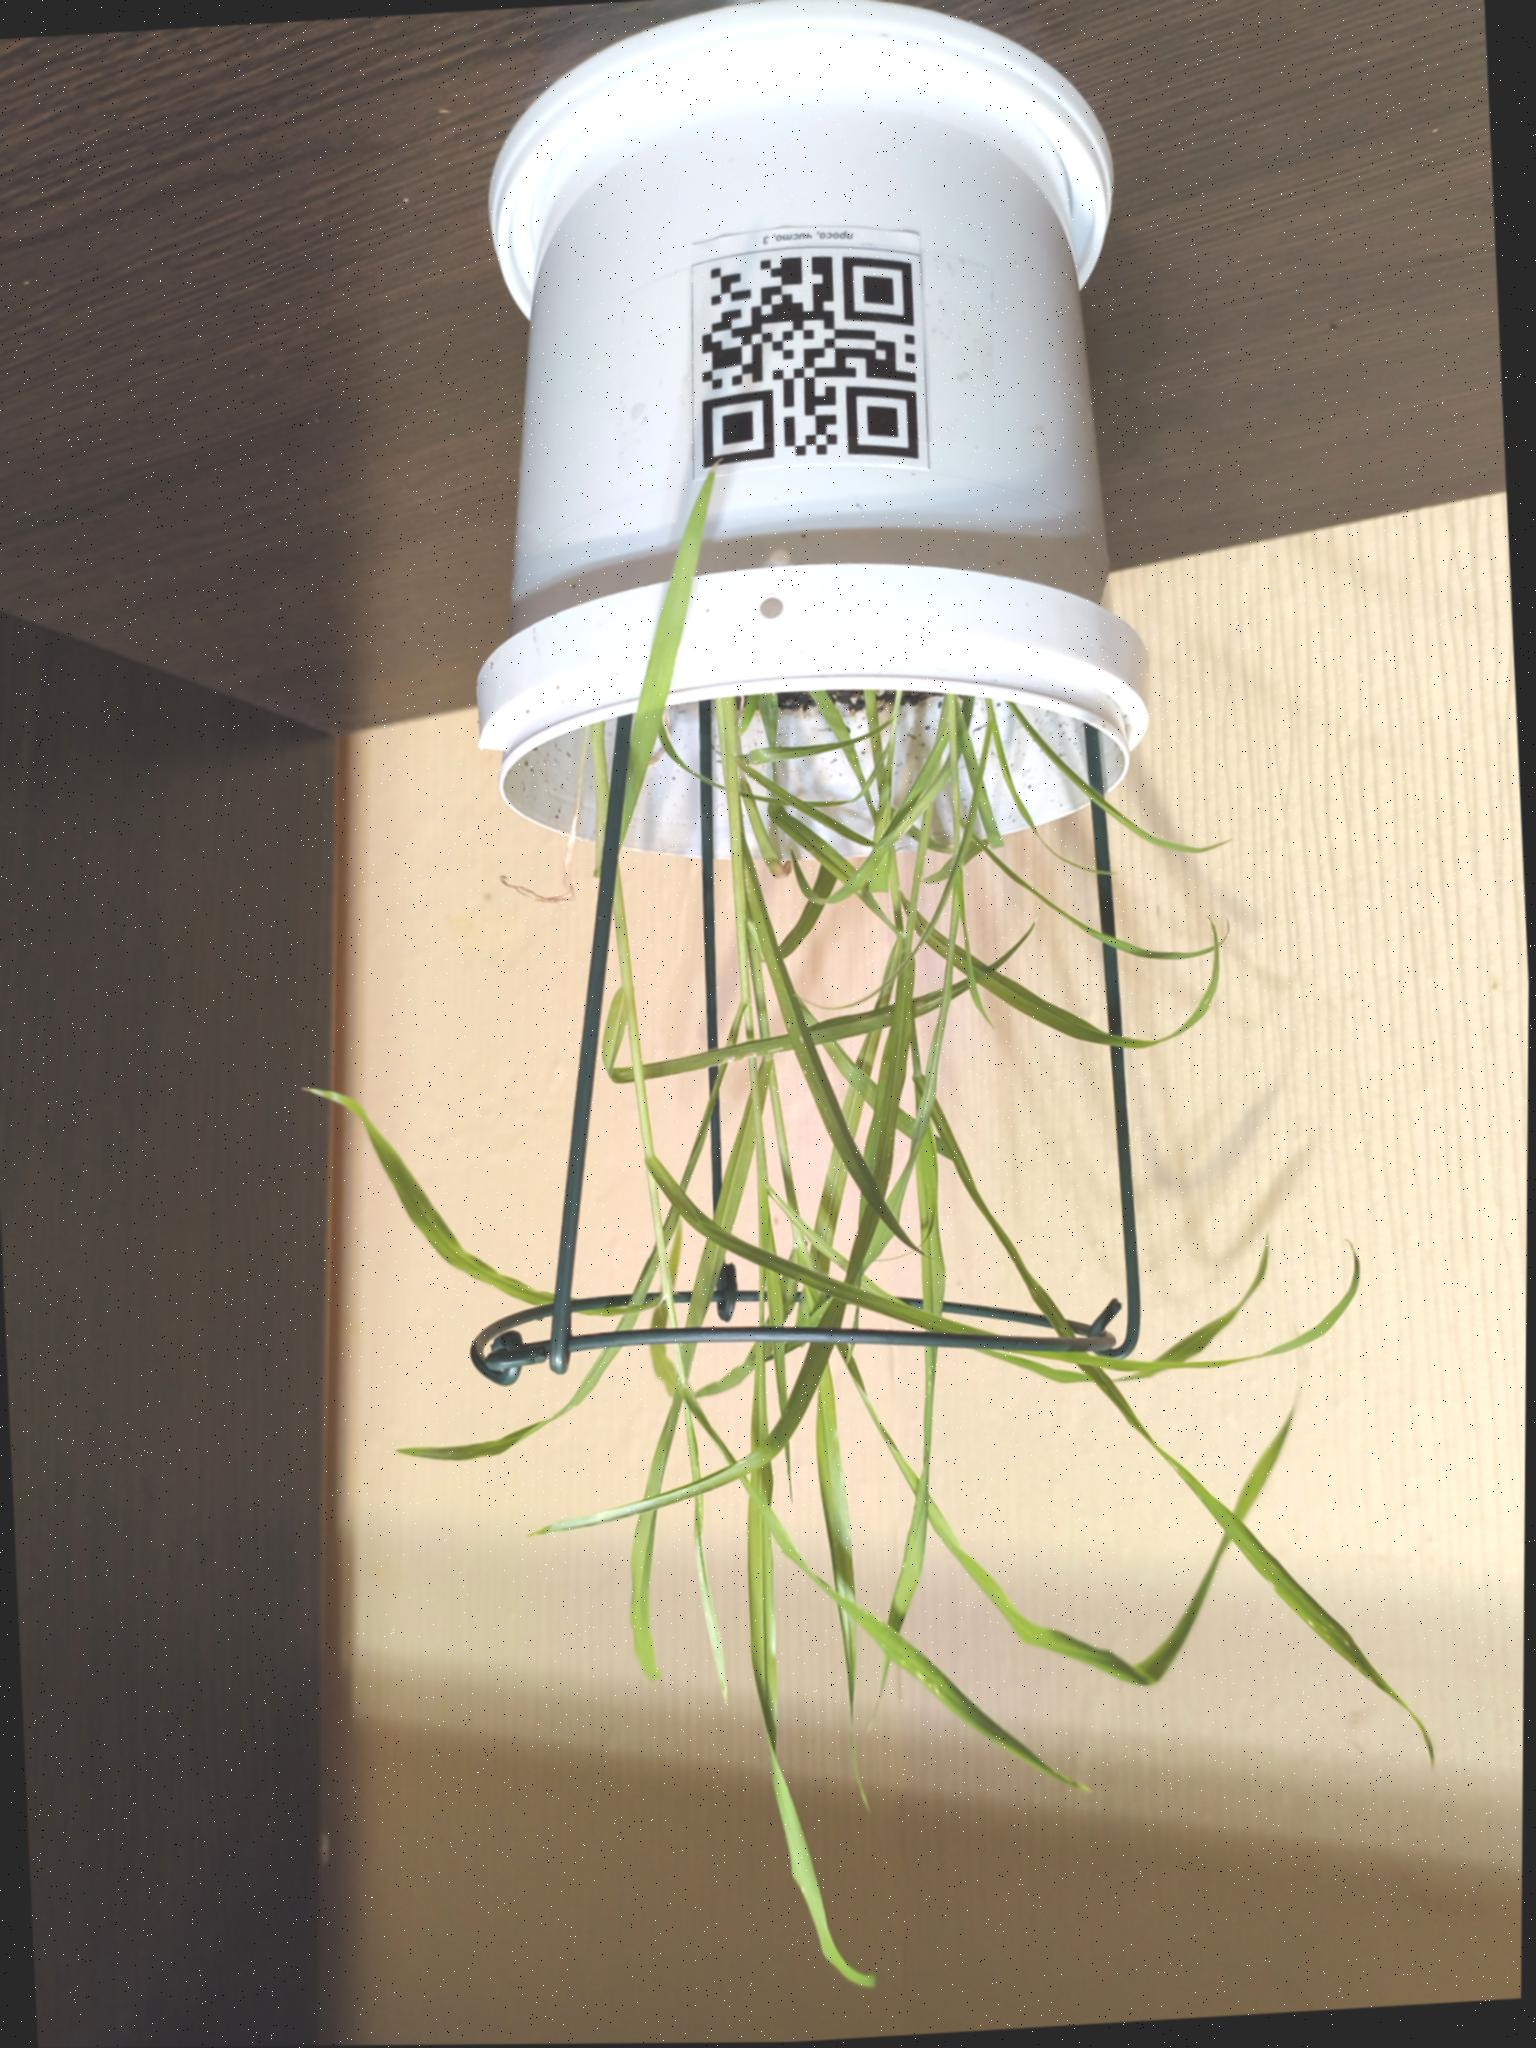container: (473, 0, 1150, 860)
stem: (586, 722, 657, 1150), (905, 695, 955, 937), (862, 693, 905, 926), (720, 698, 752, 997), (945, 695, 962, 847), (879, 693, 904, 784)
